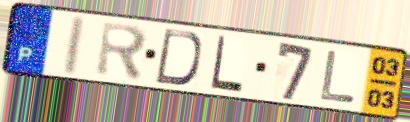7: (277, 39, 315, 102)
D: (152, 27, 204, 88)
I: (59, 14, 89, 78)
L: (208, 34, 246, 95), (318, 49, 358, 106)
R: (93, 20, 150, 84)
